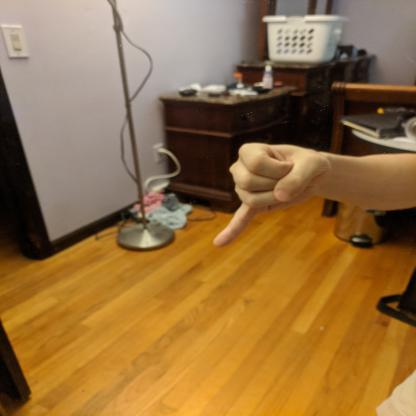J: (209, 140, 326, 250)
